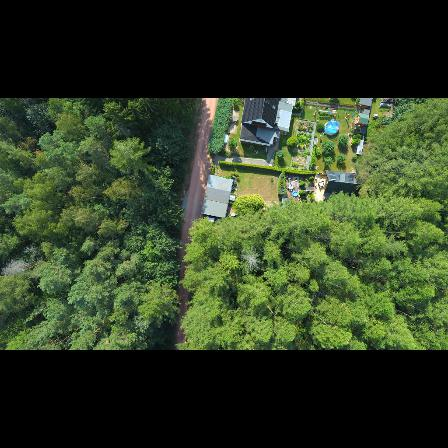Dead: (238, 248, 266, 271), (3, 259, 30, 278)
